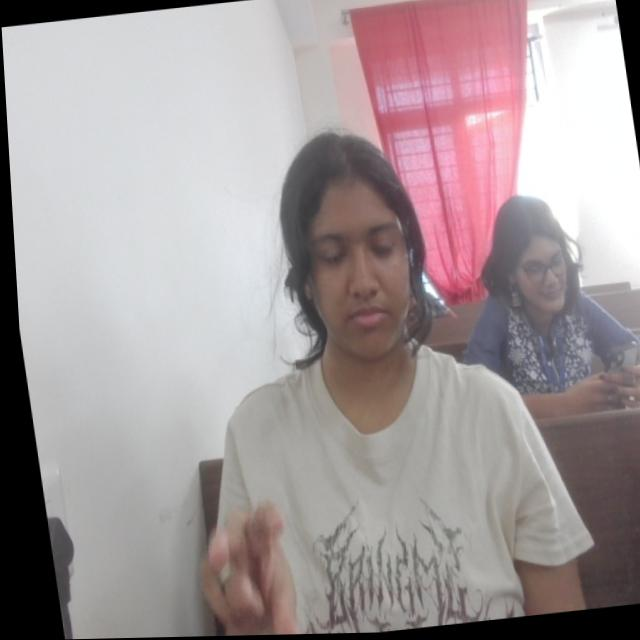no: (180, 500, 300, 637)
